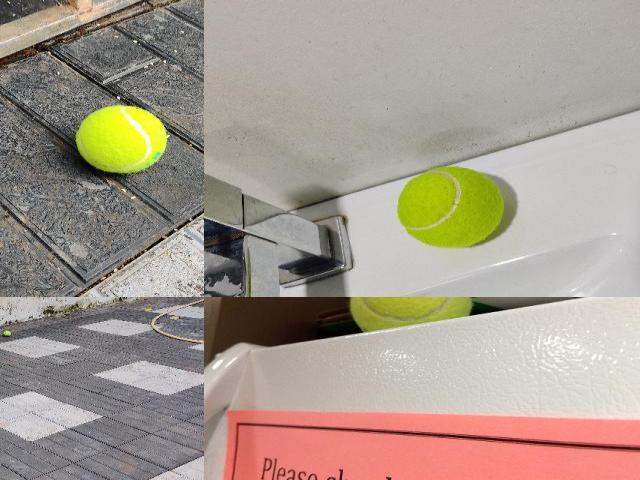tennis-ball: (395, 166, 505, 249), (75, 105, 168, 175), (347, 297, 473, 315), (3, 331, 11, 336)
